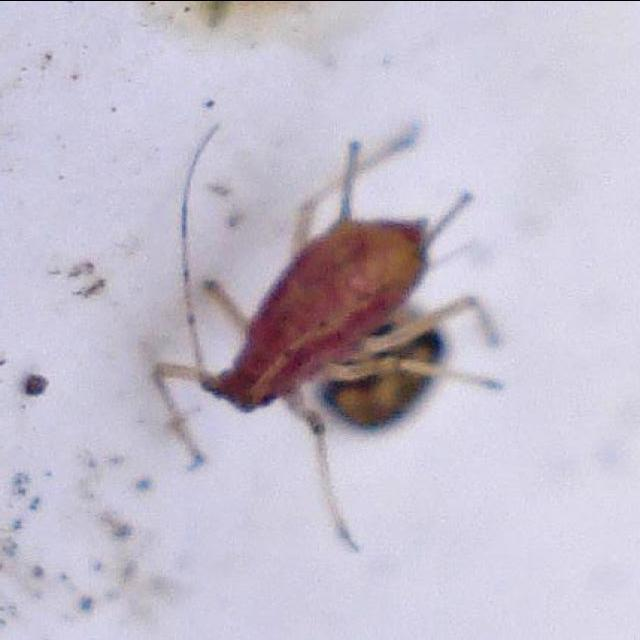aphid: (144, 128, 484, 498)
